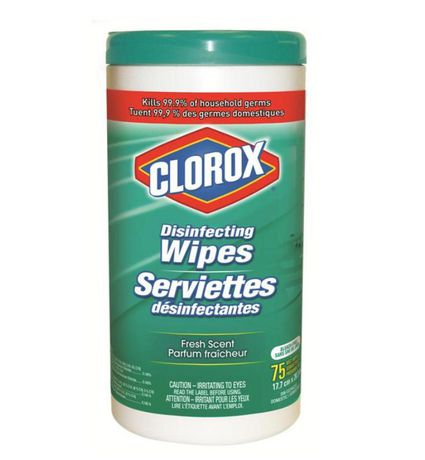Wipes: (103, 26, 311, 449)
